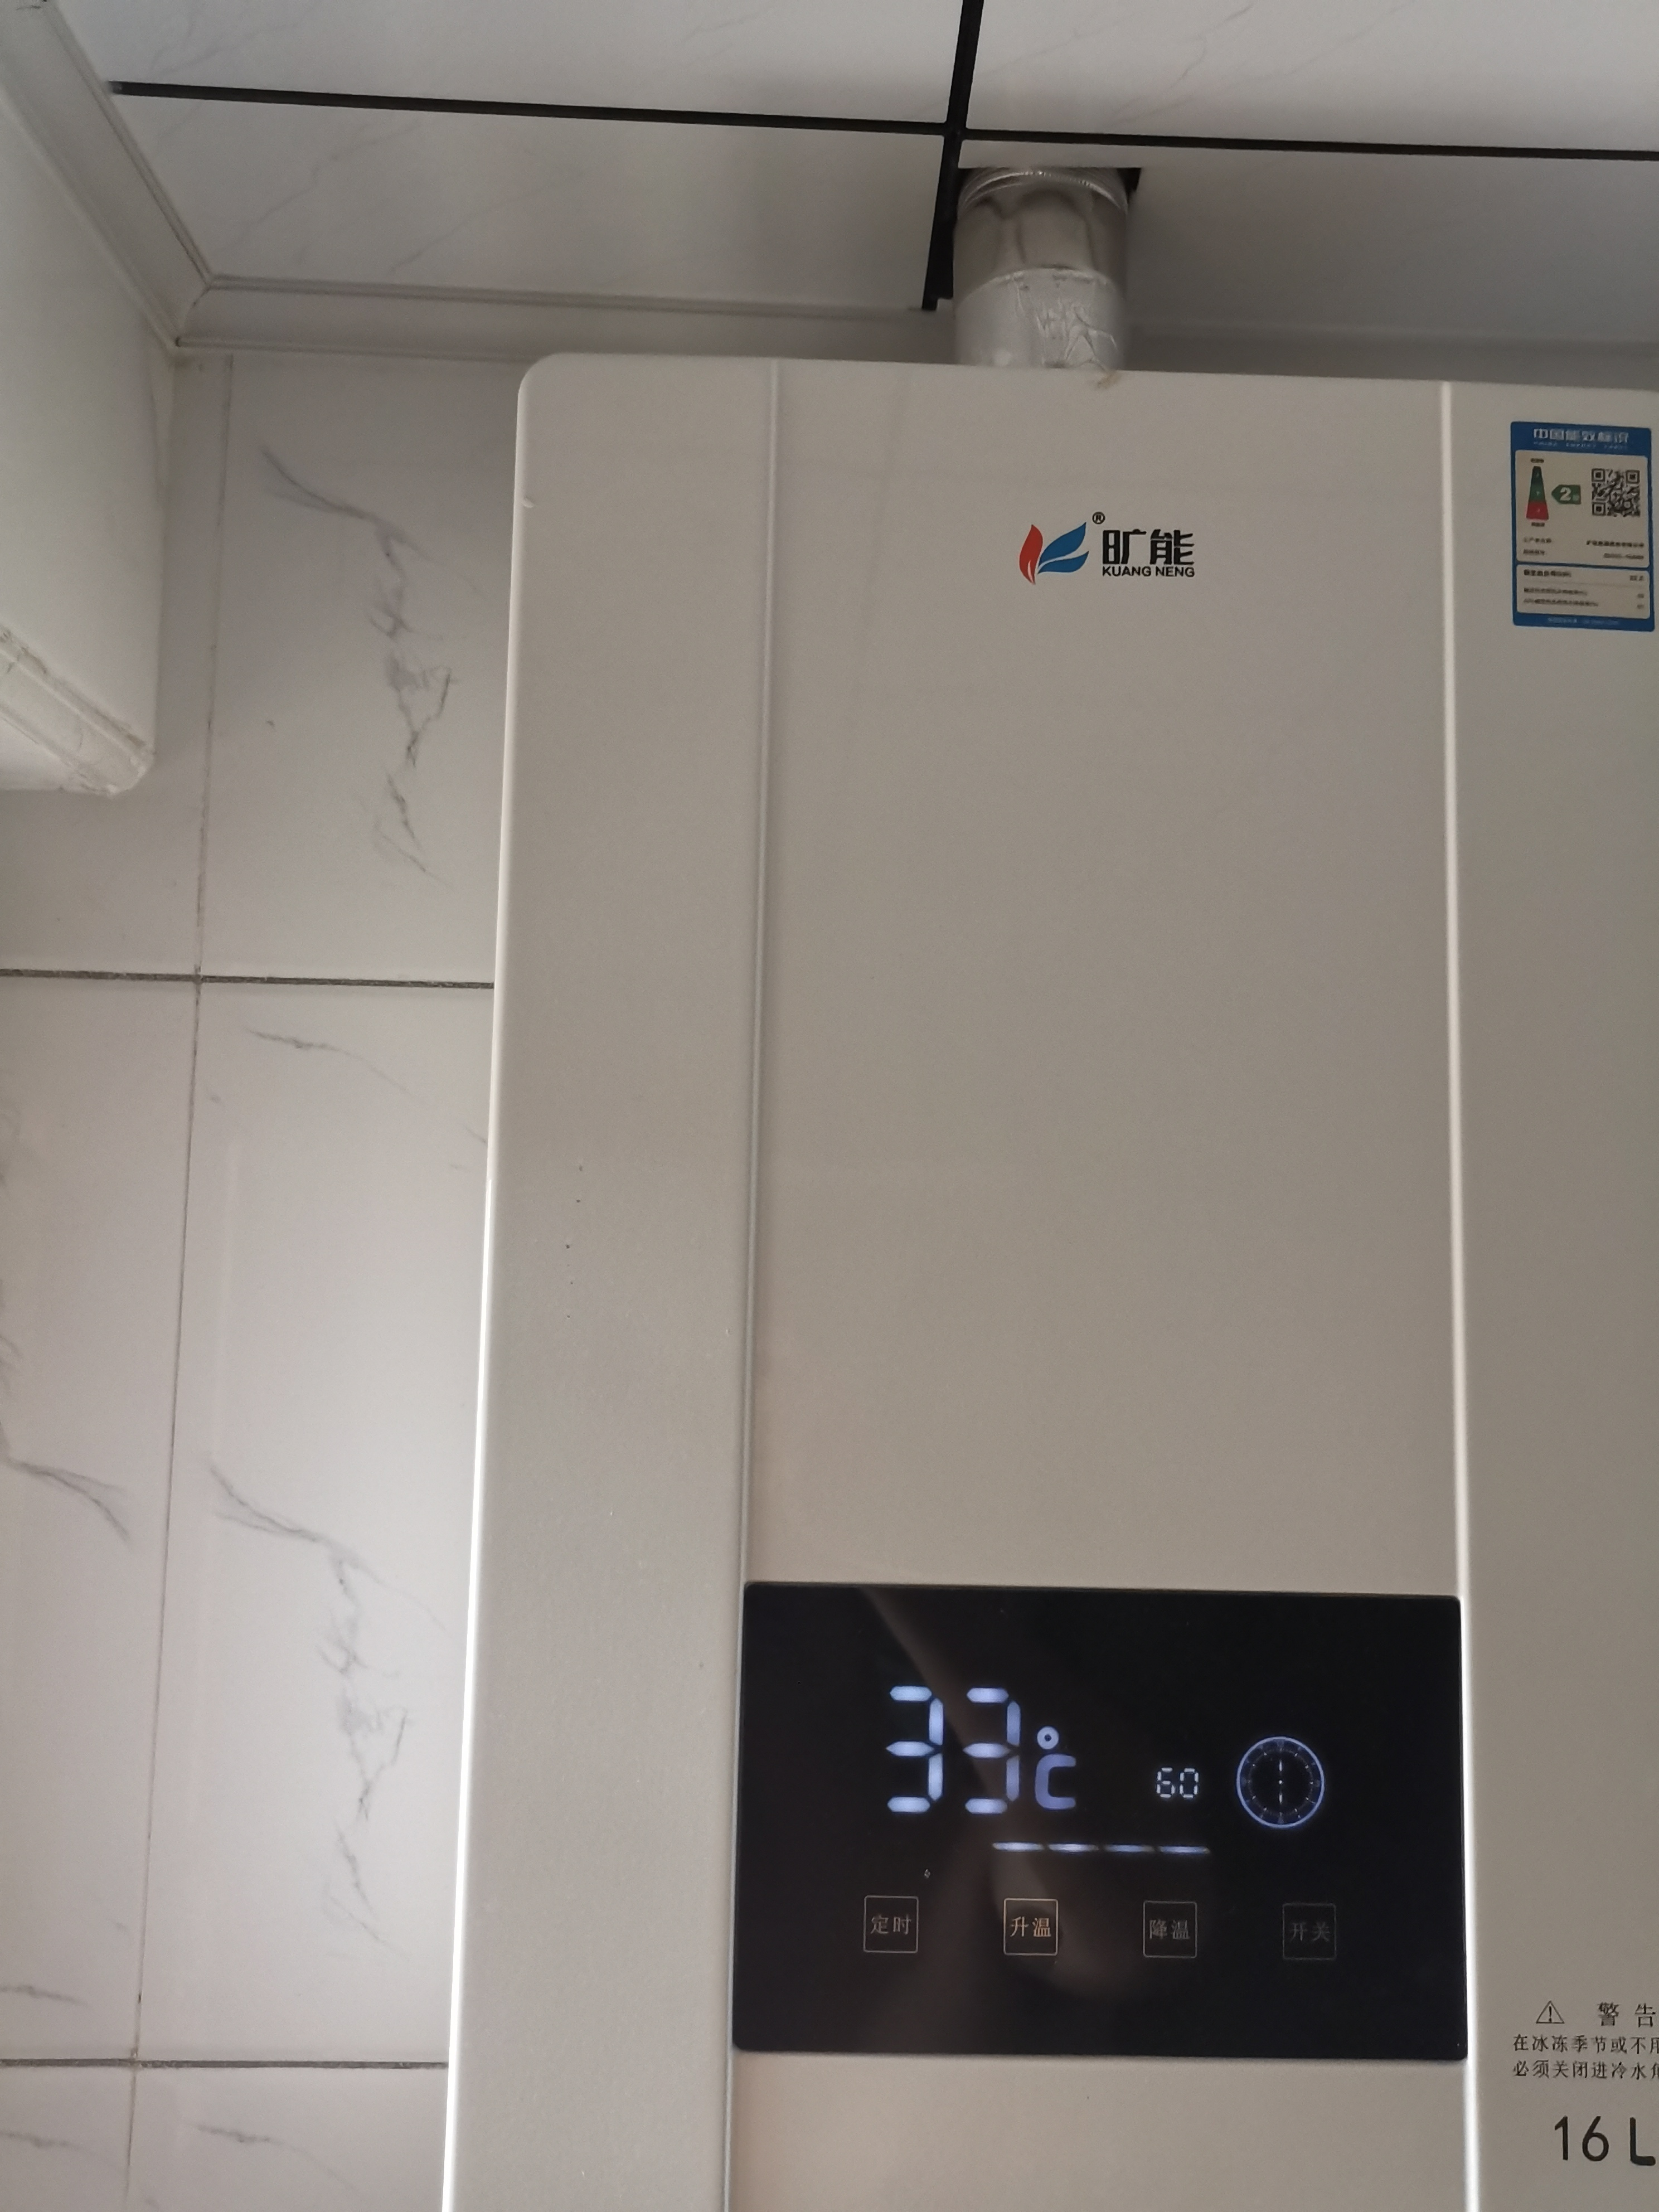loudou: (993, 493, 1209, 597)
